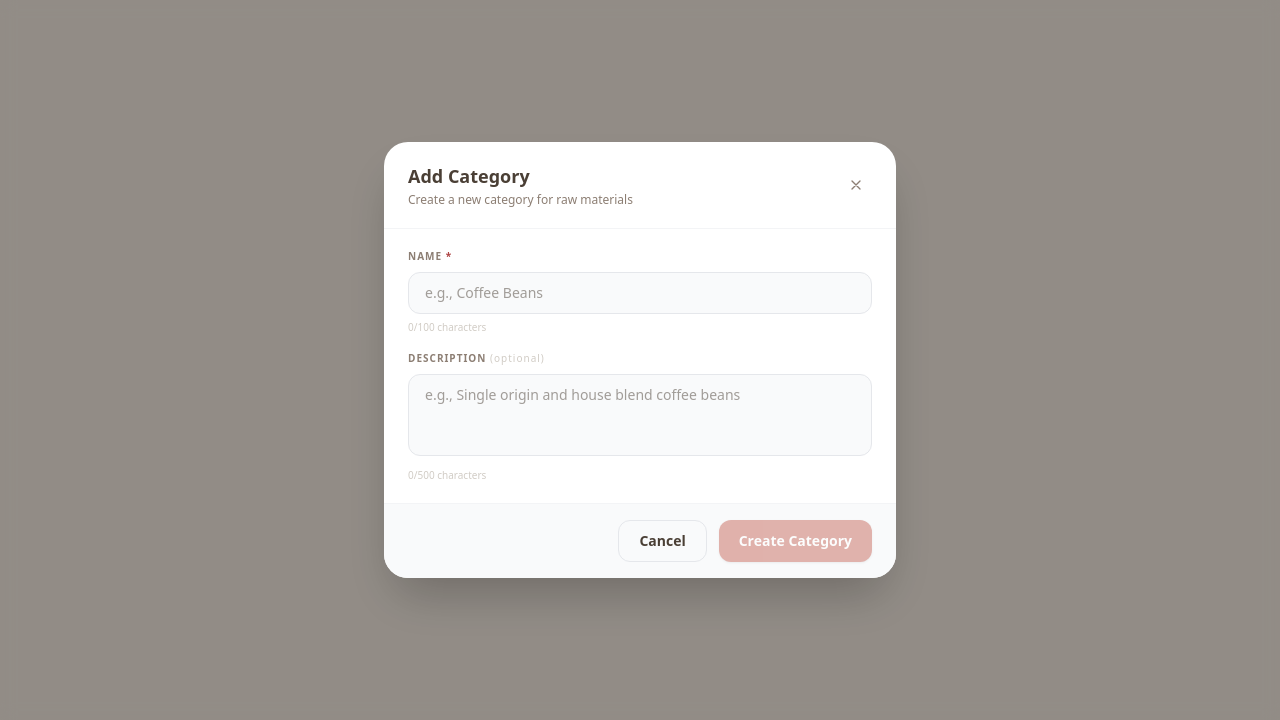
Test case: CategoryFormModal.vue (Component Testing) › Validation — Computed isValid › [Happy Path] tombol submit enabled saat name terisi
This screenshot has width=1280, height=720.
Type "Coffee" into the field with placeholder "e.g., Coffee Beans".
click(640, 293); type("Coffee")  # box [408,272,872,314]
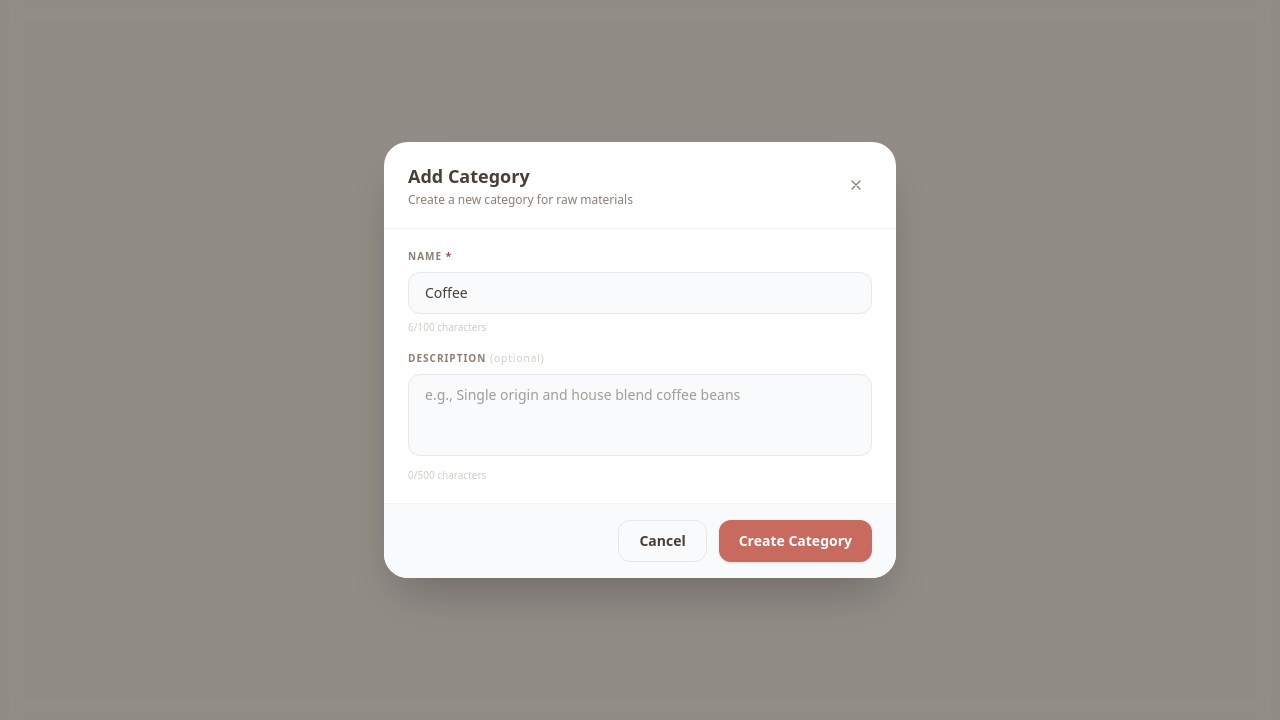
Check: the button "Create Category" is enabled, box [719,520,872,562]
